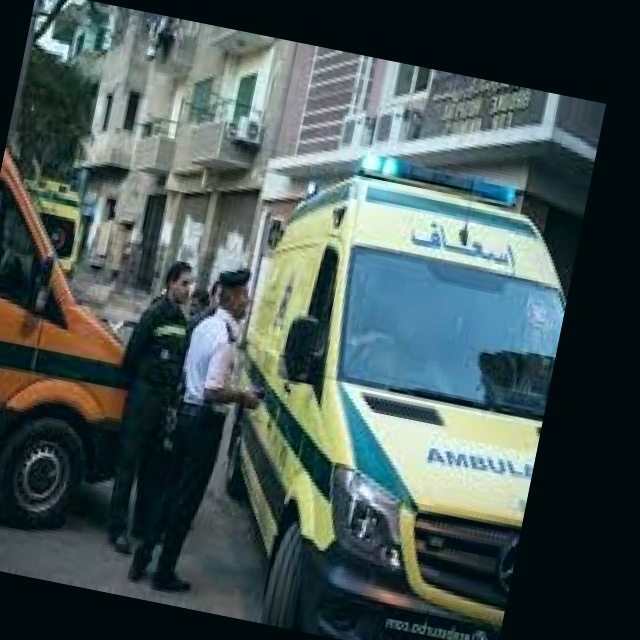Ambulance: (192, 134, 588, 640), (0, 142, 178, 544)
person: (127, 258, 288, 601), (86, 251, 206, 558)
